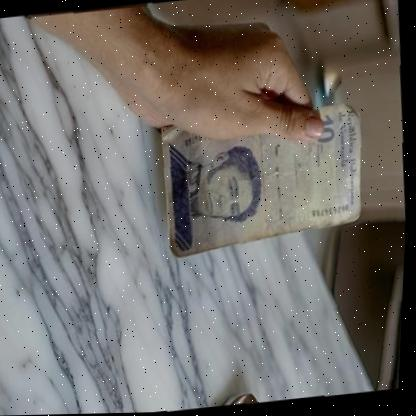ten-front-vef: (155, 101, 371, 260)
